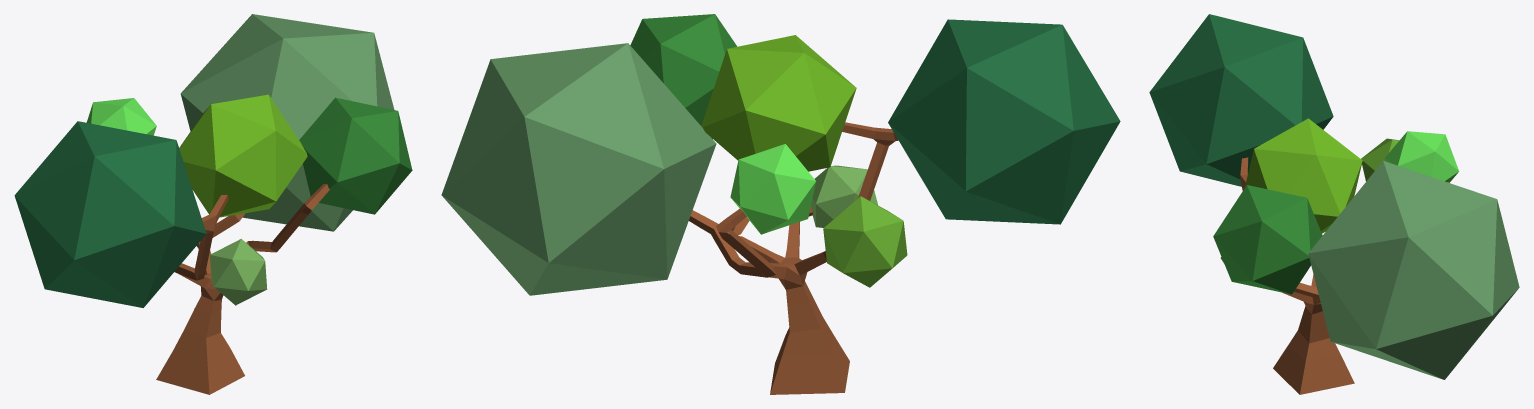
File: tree.fbx
3 renders of one model, left to right at view 1: azimuth 30°, elevation 25°; view 2: azimuth 150°, elevation 25°; view 3: azimuth 270°, elevation 25°, orthographic. The views are drawn at different scales.
Visible parts, largest first — view 1: Tree; view 2: Tree; view 3: Tree.
Part boxes in pixels (box(x1,y1,x2,y2)): Tree: box(14, 14, 412, 394); Tree: box(441, 14, 1120, 394); Tree: box(1149, 14, 1519, 394).
Size of the model in its own units: 260 by 170 by 197.
